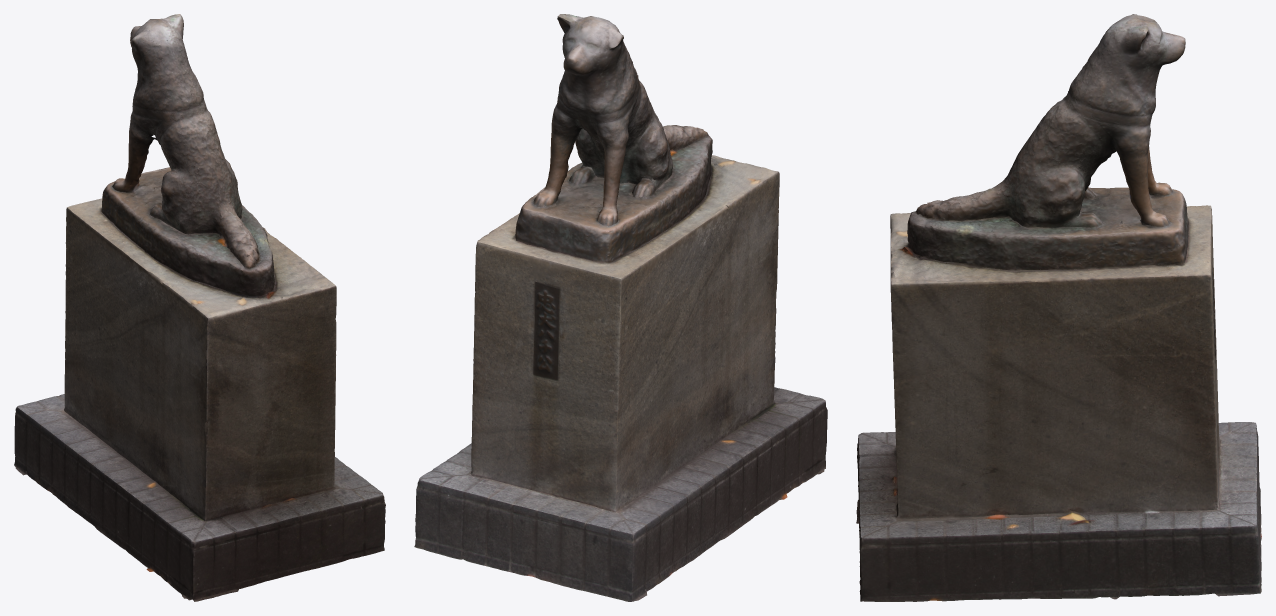
The model's file is hachiko_uploaded_scan_candidate_v001.glb.
The picture shows the model from 3 angles, left to right: view 1: azimuth 30°, elevation 25°; view 2: azimuth 150°, elevation 25°; view 3: azimuth 270°, elevation 25°; orthographic projection. The views are drawn at different scales.
Visible parts, largest first — view 1: hachiko_uploaded_scan_candidate_v001; view 2: hachiko_uploaded_scan_candidate_v001; view 3: hachiko_uploaded_scan_candidate_v001.
Boxes of the visible parts, box(x1,y1,x2,y2) form: hachiko_uploaded_scan_candidate_v001: box(14, 14, 385, 601); hachiko_uploaded_scan_candidate_v001: box(414, 14, 827, 601); hachiko_uploaded_scan_candidate_v001: box(856, 14, 1261, 601).
Bounding box in the file's own units: 1.07 × 2.41 × 1.66.
1 material, 1 textured.
